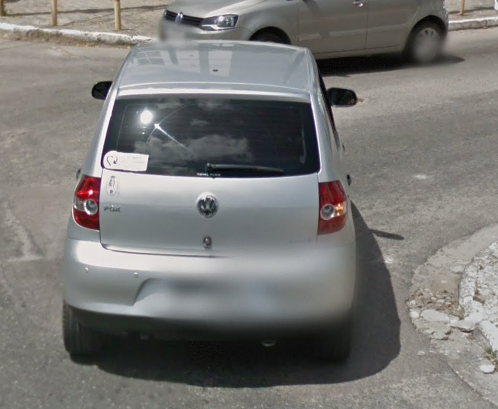car: (54, 24, 368, 374)
